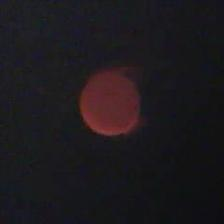infertile: (79, 71, 141, 138)
